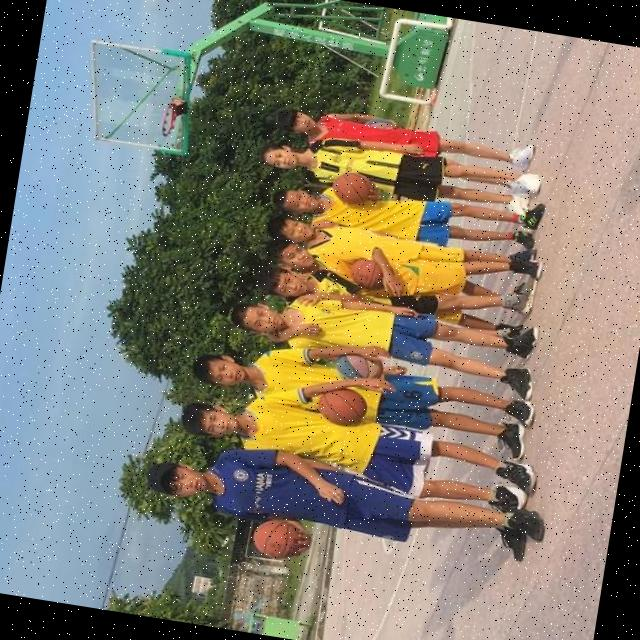ball: (251, 516, 305, 563), (314, 387, 370, 428), (330, 168, 375, 206), (349, 257, 385, 290)
hoop: (156, 91, 182, 143)
